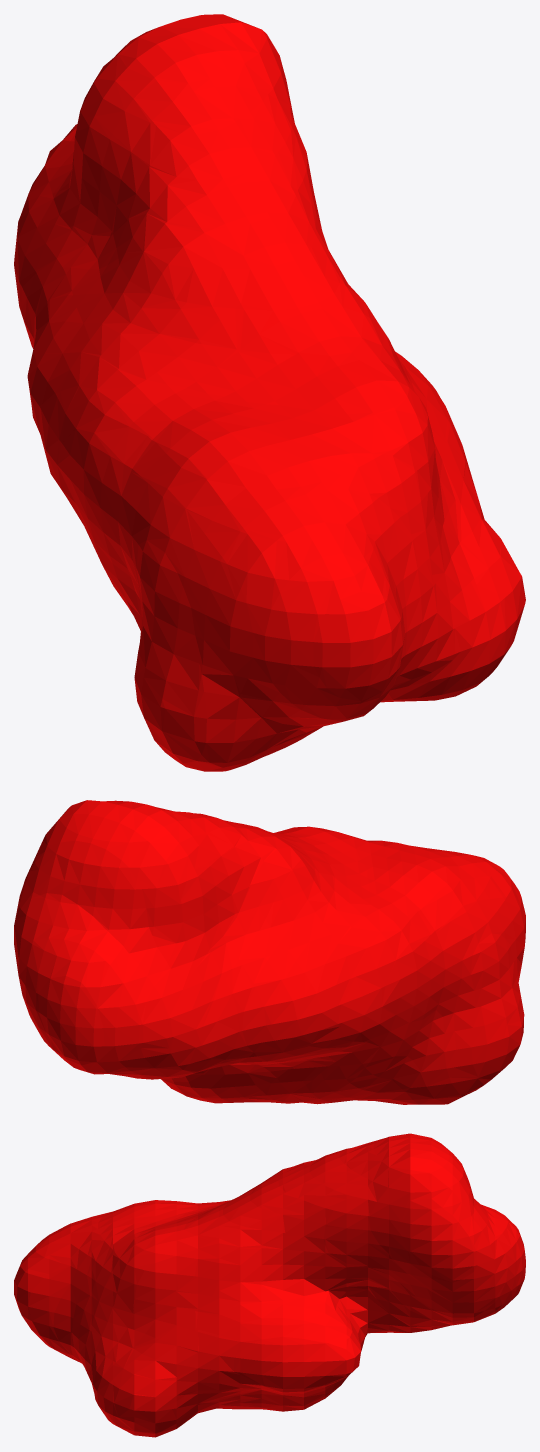
The model's file is fliE_coarse.dae.
3 renders of one model, top to bottom at view 1: azimuth 30°, elevation 25°; view 2: azimuth 150°, elevation 25°; view 3: azimuth 270°, elevation 25°, orthographic. The views are drawn at different scales.
Visible parts, largest first — view 1: fliE; view 2: fliE; view 3: fliE.
Boxes of the visible parts, x1,y1,x2,y2 form: fliE: (14, 14, 525, 771); fliE: (14, 800, 525, 1104); fliE: (14, 1133, 525, 1437).
Bounding box in the file's own units: 31.18 × 36.96 × 56.9.
